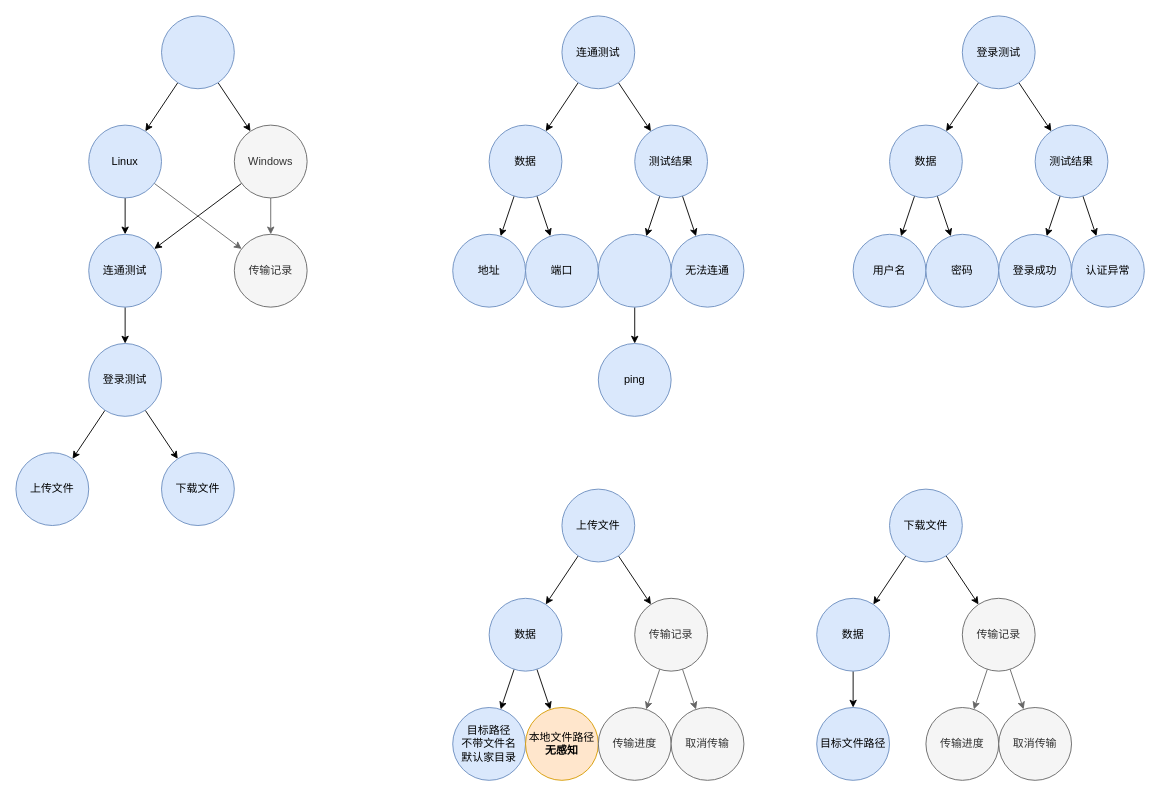
Image size: 1160x796. Some labels were removed from this diagram. Here are the shapes that lost their labels. From the top down, the box of each, then its label:
(161, 15, 234, 89): web文件传输
(597, 233, 671, 307): 通道畅通
